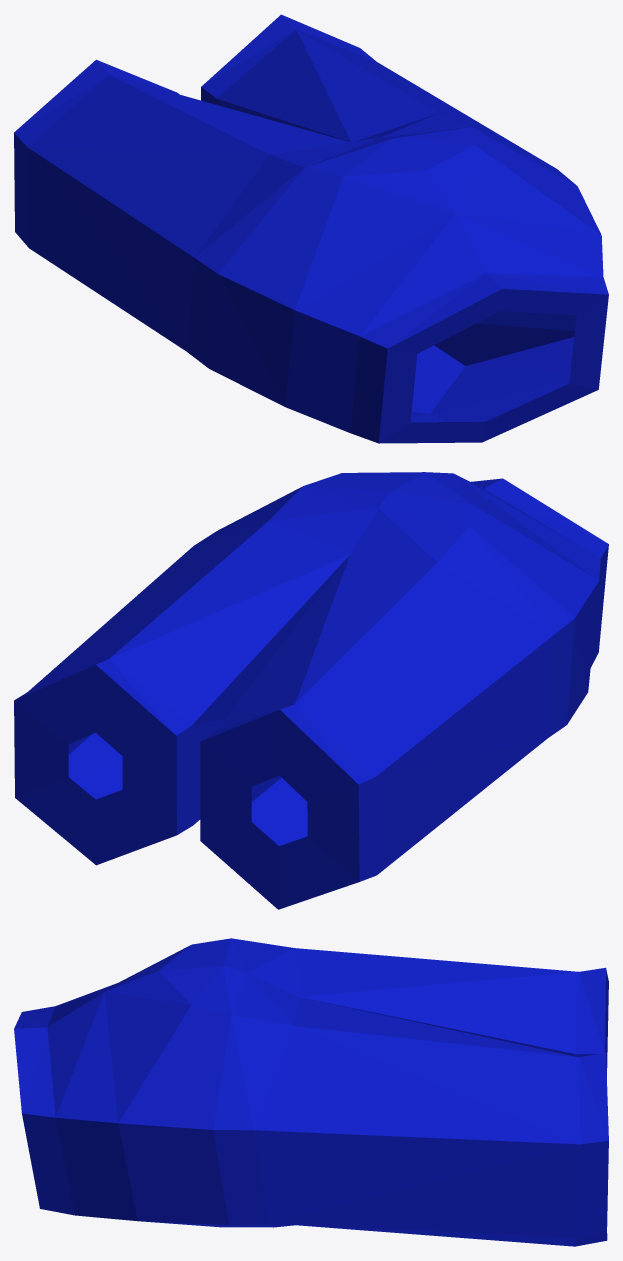
Rendered from jorts.obj.
The picture shows the model from 3 angles, top to bottom: view 1: azimuth 30°, elevation 25°; view 2: azimuth 150°, elevation 25°; view 3: azimuth 270°, elevation 25°; orthographic projection. The views are drawn at different scales.
Visible parts, largest first — view 1: pants5; view 2: pants5; view 3: pants5.
Part boxes in pixels (left/top/right/bottom): pants5: left=14, top=14, right=608, bottom=443; pants5: left=14, top=472, right=608, bottom=909; pants5: left=14, top=938, right=608, bottom=1246.
Bounding box in the file's own units: 2.22 × 1.48 × 3.35.
